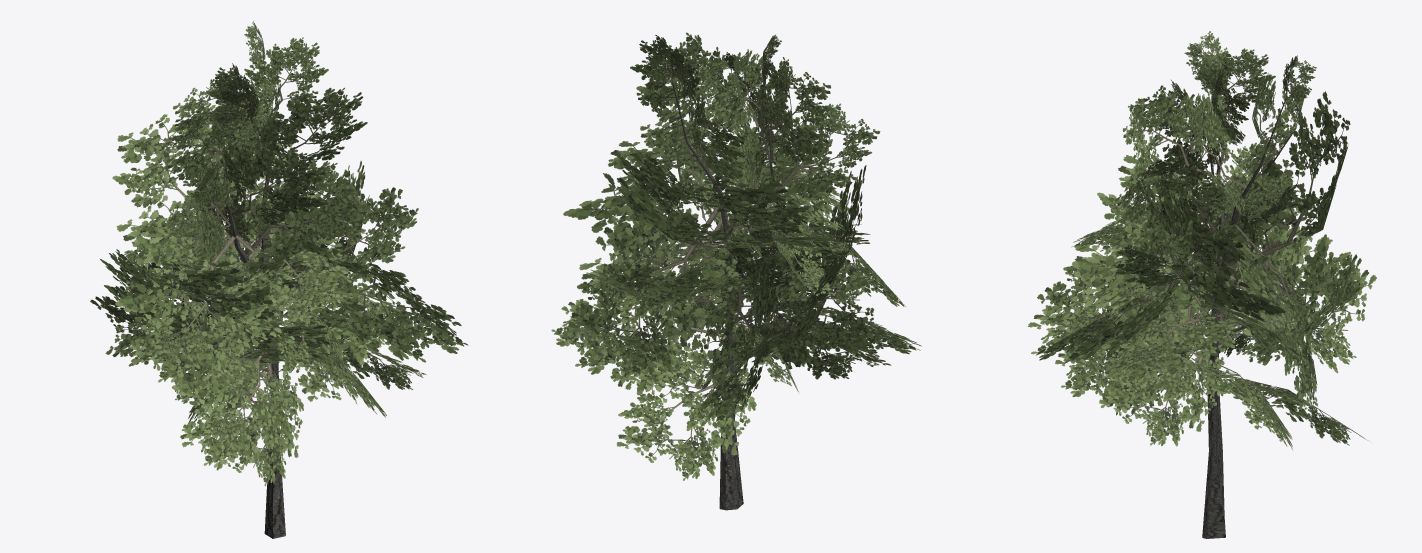
The model's file is tree7.glb.
The picture shows the model from 3 angles, left to right: view 1: azimuth 30°, elevation 25°; view 2: azimuth 150°, elevation 25°; view 3: azimuth 270°, elevation 25°; orthographic projection. The views are drawn at different scales.
Parts seen in each view (by area): view 1: Tree-02-3; view 2: Tree-02-3; view 3: Tree-02-3.
Part boxes in pixels (x1,y1,x2,y2): Tree-02-3: (90,21,468,538); Tree-02-3: (551,32,921,510); Tree-02-3: (1028,31,1376,538).
Size of the model in its own units: 5.57 by 6.85 by 5.27.
3 materials, 3 textured.
